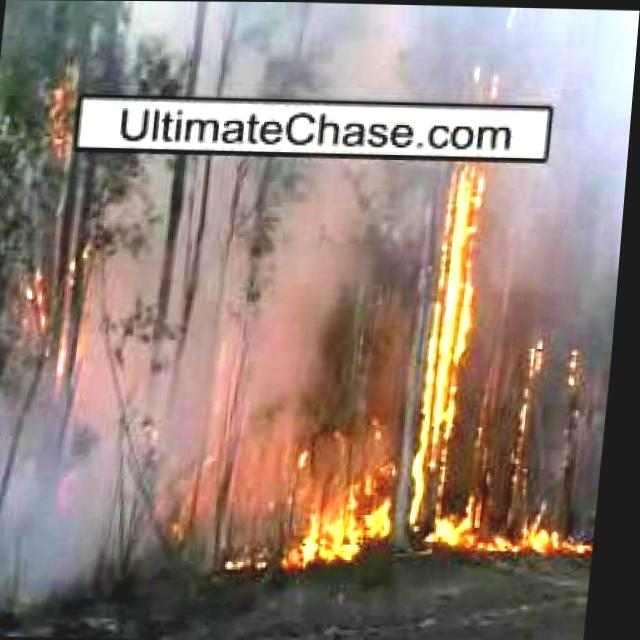Fire: (418, 158, 498, 516), (271, 483, 400, 566), (33, 72, 89, 180), (27, 247, 85, 347), (437, 529, 602, 558), (522, 331, 554, 471)
